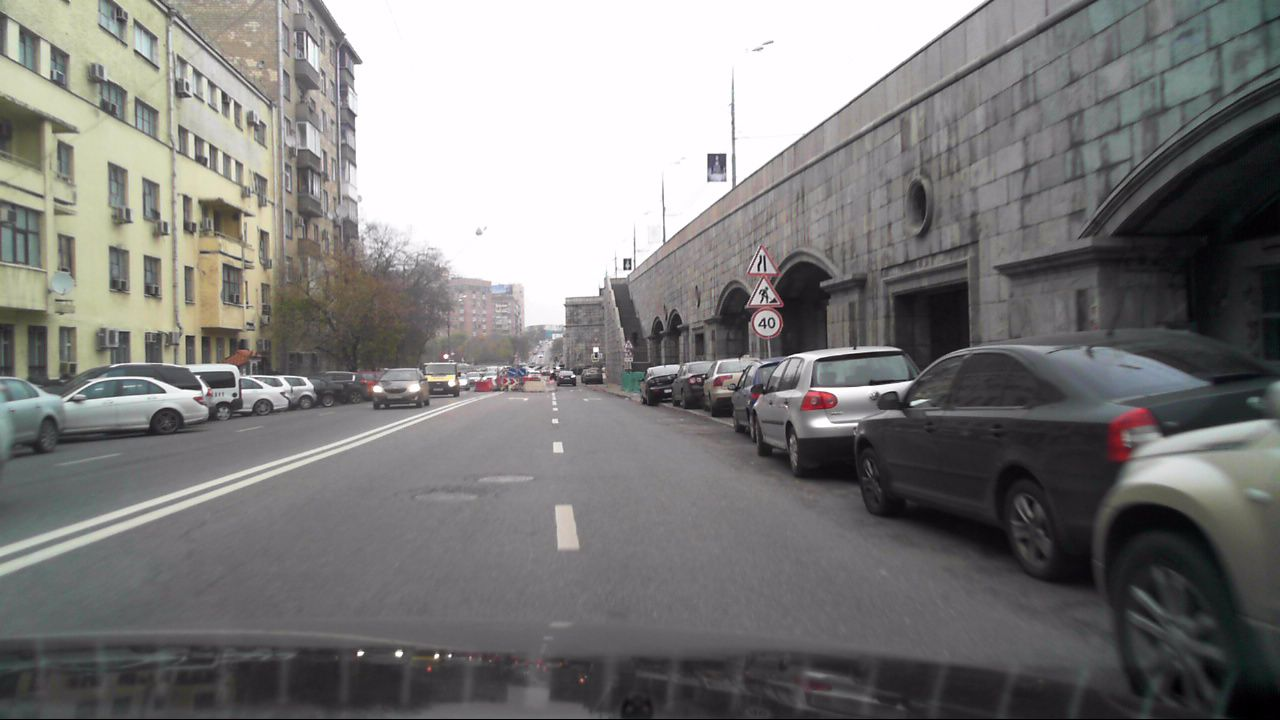speed_warning_40: (750, 305, 783, 340)
